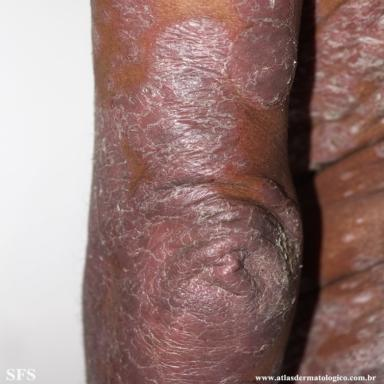Psoriasis: (85, 0, 300, 384), (299, 192, 384, 384), (310, 0, 384, 168), (92, 0, 100, 63)
